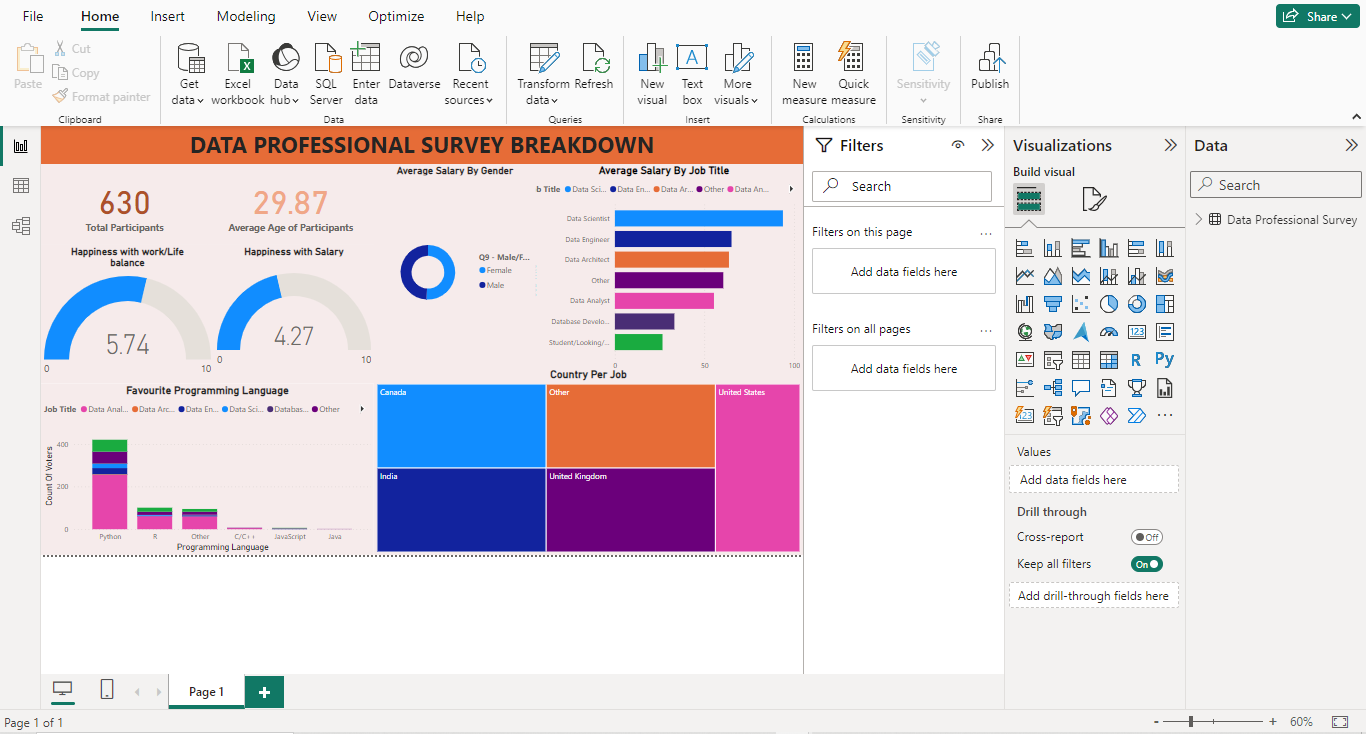

Layout of this report page (visuals, bound fields, positions):
{"tool":"powerbi","page":{"name":"Page 1","canvas":[1280,720],"ordinal":0},"visuals":[{"type":"textbox","box":[0,0,1280,63.8],"z":0},{"type":"card","fields":{"Values":["CountNonNull(Data Professional Survey.Unique ID)"]},"box":[0,63.8,280.5,136.1],"z":1000},{"type":"card","fields":{"Values":["Avg(Data Professional Survey.Q10 - Current Age)"]},"box":[278.8,63.8,280.5,136.1],"z":2000},{"type":"barChart","title":"Average Salary By Job Title","fields":{"Category":["Data Professional Survey.Q1 - Which Title Best Fits your Current Role?.1"],"Y":["Avg(Data Professional Survey.AverageSalary)"],"Series":["Data Professional Survey.Q1 - Which Title Best Fits your Current Role?.1"]},"box":[813,63.8,467,369.6],"z":3000},{"type":"columnChart","title":"Favourite Programming Language","fields":{"Category":["Data Professional Survey.Q5 - Favorite Programming Language.1"],"Y":["CountNonNull(Data Professional Survey.Unique ID)"],"Series":["Data Professional Survey.Q1 - Which Title Best Fits your Current Role?.1"]},"box":[0,433.4,559.4,287.2],"z":4000},{"type":"treemap","title":"Country Per Job","fields":{"Group":["Data Professional Survey.Q11 - Which Country do you live in?.1"],"Values":["Count(Data Professional Survey.Q11 - Which Country do you live in?.1)"]},"box":[559.4,406.5,720.6,314.1],"z":5000},{"type":"gauge","title":"Happiness with work/Life balance","fields":{"Y":["Avg(Data Professional Survey.Q6 - How Happy are you in your Current Position with the following? (Work/Life Balance))"],"MinValue":["Min(Data Professional Survey.Q6 - How Happy are you in your Current Position with the following? (Work/Life Balance))1"],"MaxValue":["Max(Data Professional Survey.Q6 - How Happy are you in your Current Position with the following? (Work/Life Balance))2"]},"box":[0,199.9,290.6,233.5],"z":6000},{"type":"gauge","title":"Happiness with Salary","fields":{"Y":["Avg(Data Professional Survey.Q6 - How Happy are you in your Current Position with the following? (Salary))"],"MinValue":["Min(Data Professional Survey.Q6 - How Happy are you in your Current Position with the following? (Salary))"],"MaxValue":["Max(Data Professional Survey.Q6 - How Happy are you in your Current Position with the following? (Salary))1"]},"box":[290.6,199.9,268.8,233.5],"z":7000},{"type":"donutChart","title":"Average Salary By Gender","fields":{"Category":["Data Professional Survey.Q9 - Male/Female?"],"Y":["Avg(Data Professional Survey.AverageSalary)"]},"box":[559.4,63.8,272.1,342.7],"z":8000}]}

Visuals, with their boxes on the page's 1280x720 design canvas (x1, y1, x2, y2). These are canvas units, not pixel positions in the 1366x734 screenshot, which may show the page scaled, cropped or inside an application window:
textbox: pyautogui.locateOnScreen(0, 0, 1280, 64)
card - CountNonNull(Data Professional Survey.Unique ID): pyautogui.locateOnScreen(0, 64, 280, 200)
card - Avg(Data Professional Survey.Q10 - Current Age): pyautogui.locateOnScreen(279, 64, 559, 200)
"Average Salary By Job Title" barChart: pyautogui.locateOnScreen(813, 64, 1280, 433)
"Favourite Programming Language" columnChart: pyautogui.locateOnScreen(0, 433, 559, 721)
"Country Per Job" treemap: pyautogui.locateOnScreen(559, 406, 1280, 721)
"Happiness with work/Life balance" gauge: pyautogui.locateOnScreen(0, 200, 291, 433)
"Happiness with Salary" gauge: pyautogui.locateOnScreen(291, 200, 559, 433)
"Average Salary By Gender" donutChart: pyautogui.locateOnScreen(559, 64, 832, 406)
